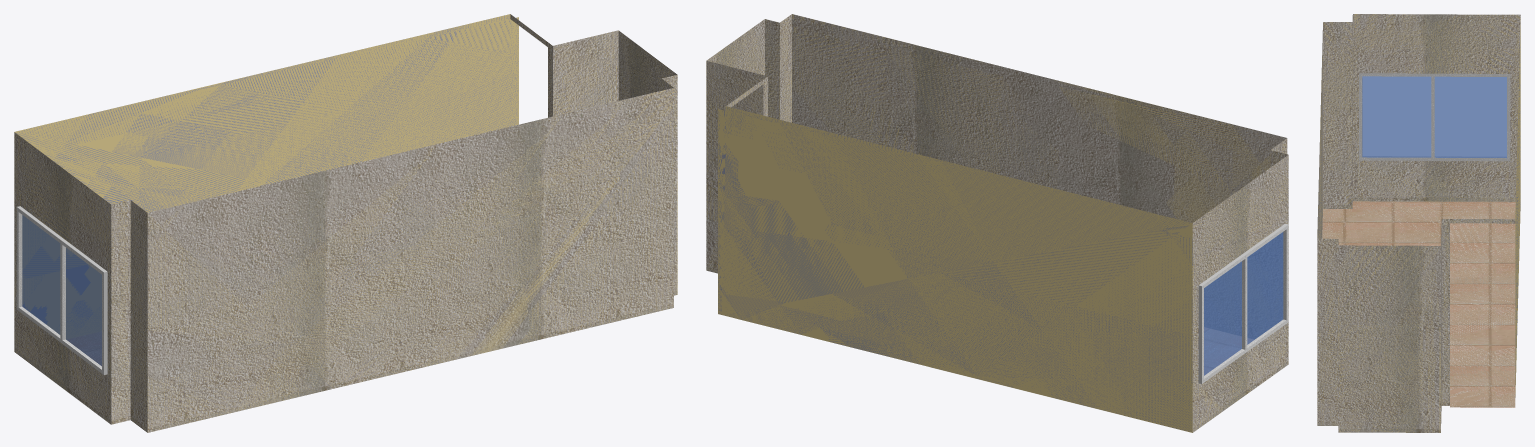
Rendered from DES037.obj.
The picture shows the model from 3 angles, left to right: view 1: azimuth 30°, elevation 25°; view 2: azimuth 150°, elevation 25°; view 3: azimuth 270°, elevation 25°; orthographic projection. The views are drawn at different scales.
Parts seen in each view (by area): view 1: Mesh6 DES037 Model, Mesh1 ventana2_1 DES037 Model; view 2: Mesh6 DES037 Model, Mesh1 ventana2_1 DES037 Model; view 3: Mesh6 DES037 Model, Mesh1 ventana2_1 DES037 Model.
Boxes of the visible parts, x1,y1,x2,y2 form: Mesh6 DES037 Model: (14,14,677,432); Mesh1 ventana2_1 DES037 Model: (16,206,107,374); Mesh6 DES037 Model: (706,14,1288,432); Mesh1 ventana2_1 DES037 Model: (1198,223,1288,383); Mesh6 DES037 Model: (1317,14,1520,432); Mesh1 ventana2_1 DES037 Model: (1359,73,1510,161).
Bounding box in the file's own units: 8.02 × 3 × 2.96.
8 materials, 2 textured.
